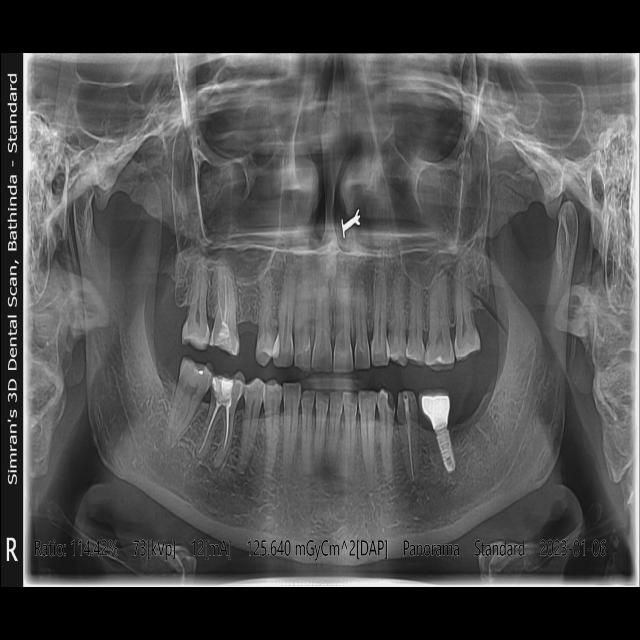Implant: (436, 427, 455, 472)
